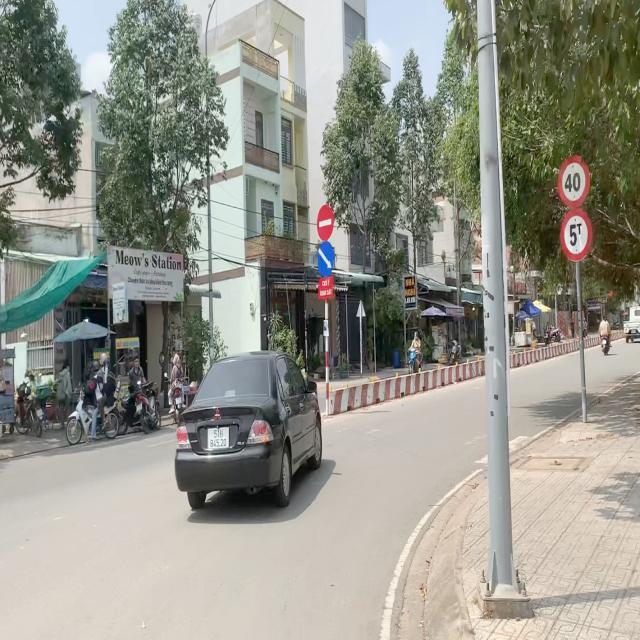Cam nguoc chieu: (316, 203, 335, 242)
Hieu lenh: (317, 240, 335, 280)
Toc do toi da: (558, 156, 588, 207)
Trong tai toi da: (560, 210, 592, 260)
